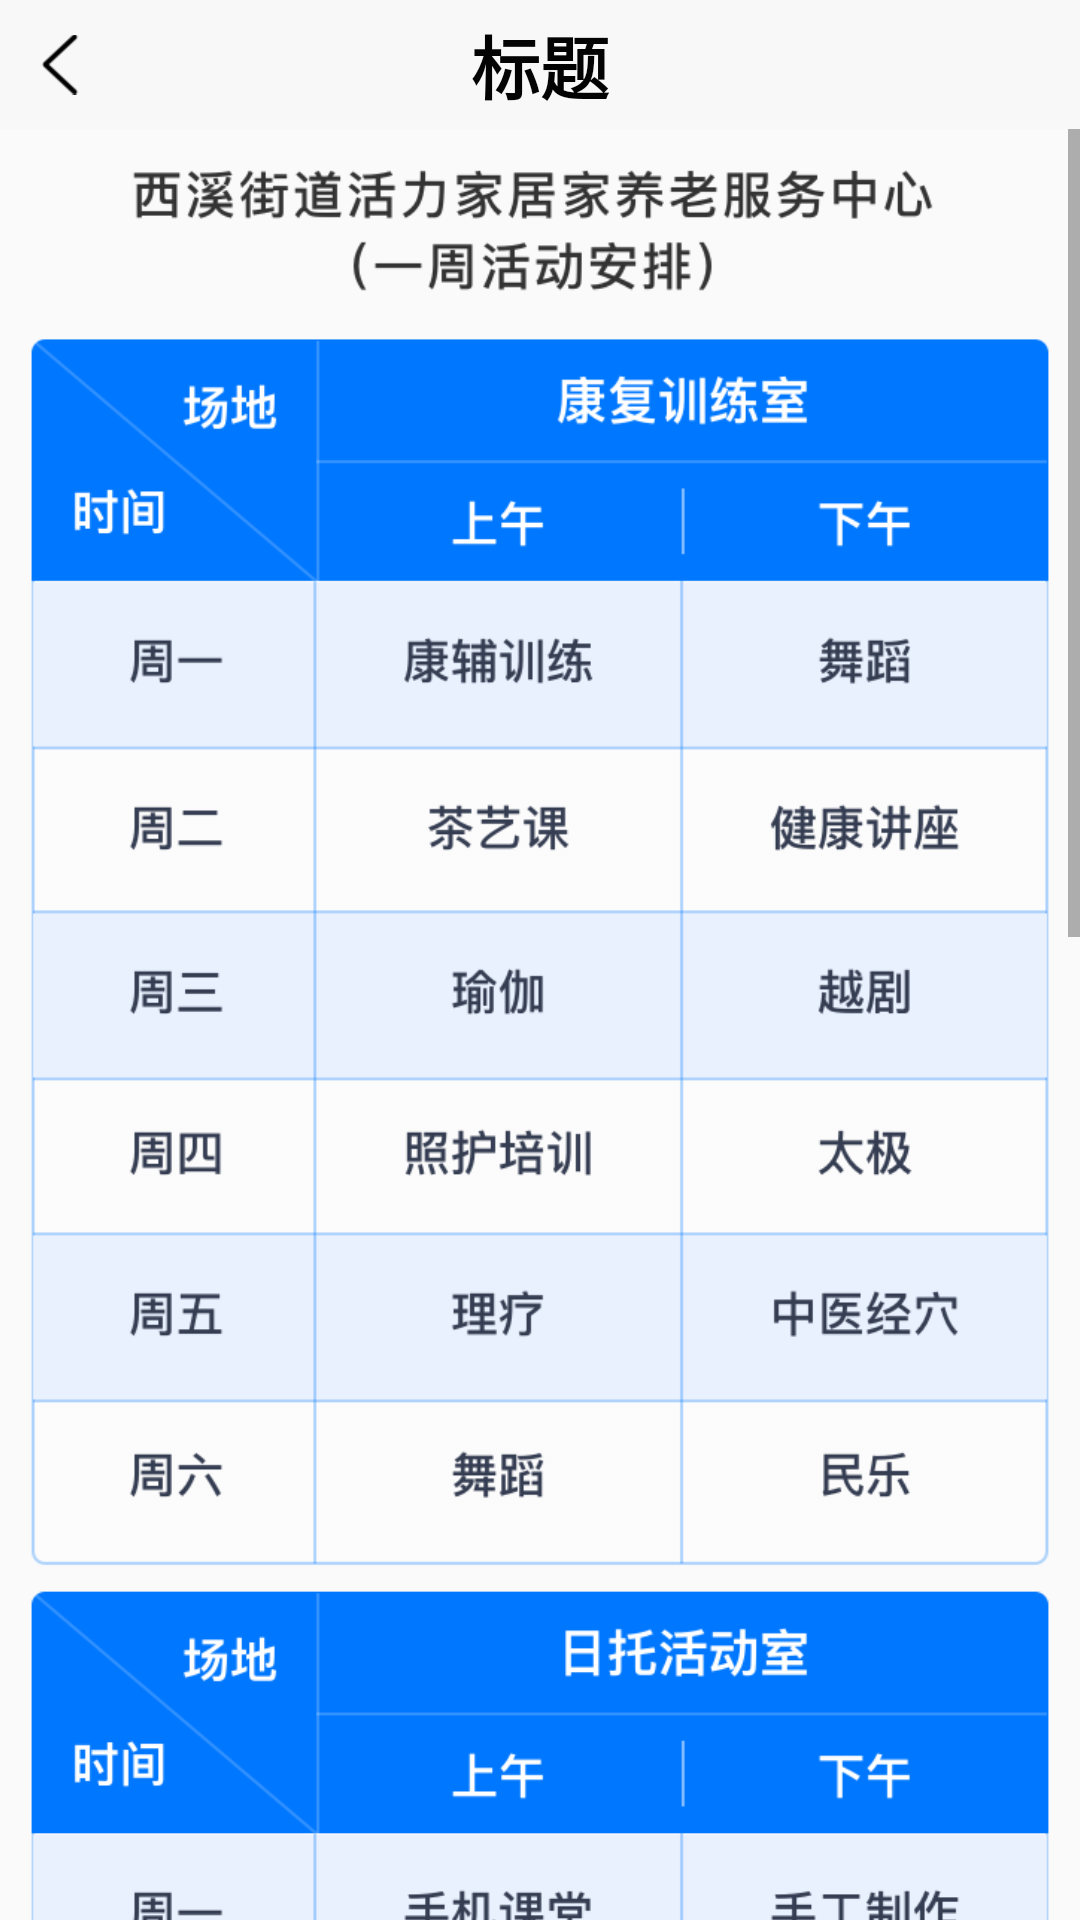

Named icons in this screenshot (1080 x 1920) and their bounding boxes, box(x1, y1, x2, y2):
back: box(42, 35, 78, 95)
